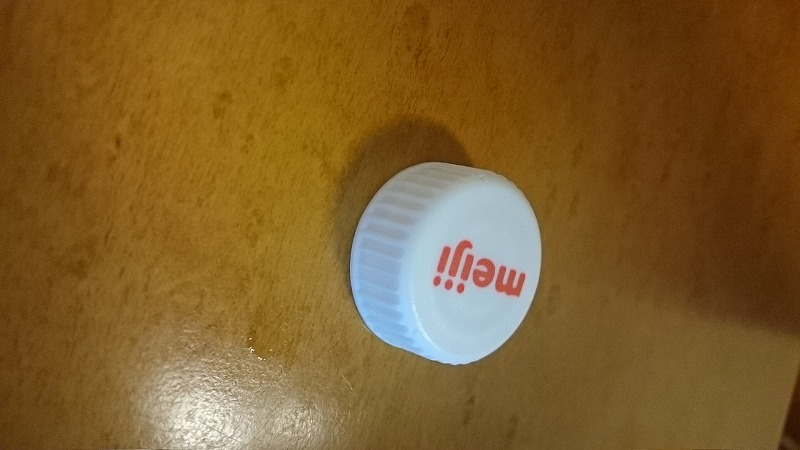B: (339, 153, 552, 377)
